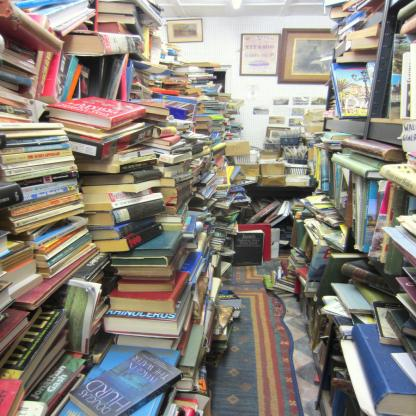book: (263, 132, 416, 416), (133, 60, 259, 312), (72, 347, 183, 416), (47, 91, 152, 133), (104, 288, 194, 332), (67, 122, 156, 161), (64, 26, 148, 60), (6, 188, 82, 218), (27, 214, 89, 250), (21, 215, 86, 249), (35, 234, 92, 268), (0, 137, 77, 162), (31, 222, 87, 252), (3, 165, 87, 184), (0, 256, 46, 284), (22, 184, 88, 203), (0, 157, 76, 172), (8, 272, 46, 302), (6, 126, 77, 142), (19, 177, 82, 195), (0, 118, 63, 129), (0, 229, 15, 256)
